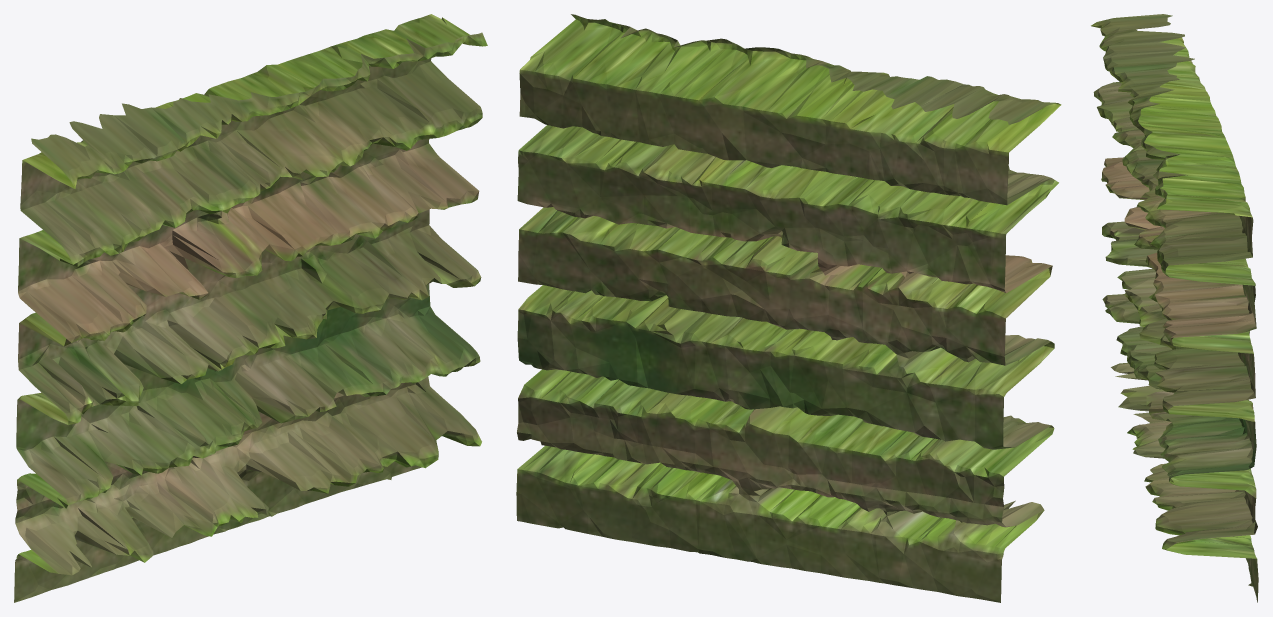
The model's file is map_250_60.obj.
3 views of the same model, side by side, from view 1: azimuth 30°, elevation 25°; view 2: azimuth 150°, elevation 25°; view 3: azimuth 270°, elevation 25° (orthographic). The views are drawn at different scales.
Parts seen in each view (by area): view 1: grp1; view 2: grp1; view 3: grp1.
Part boxes in pixels (x1,y1,x2,y2): grp1: (14, 14, 487, 602); grp1: (516, 14, 1061, 602); grp1: (1091, 14, 1258, 602).
Size of the model in its own units: 10 by 10 by 3.8.
Materials: 1 (1 with a texture image).
